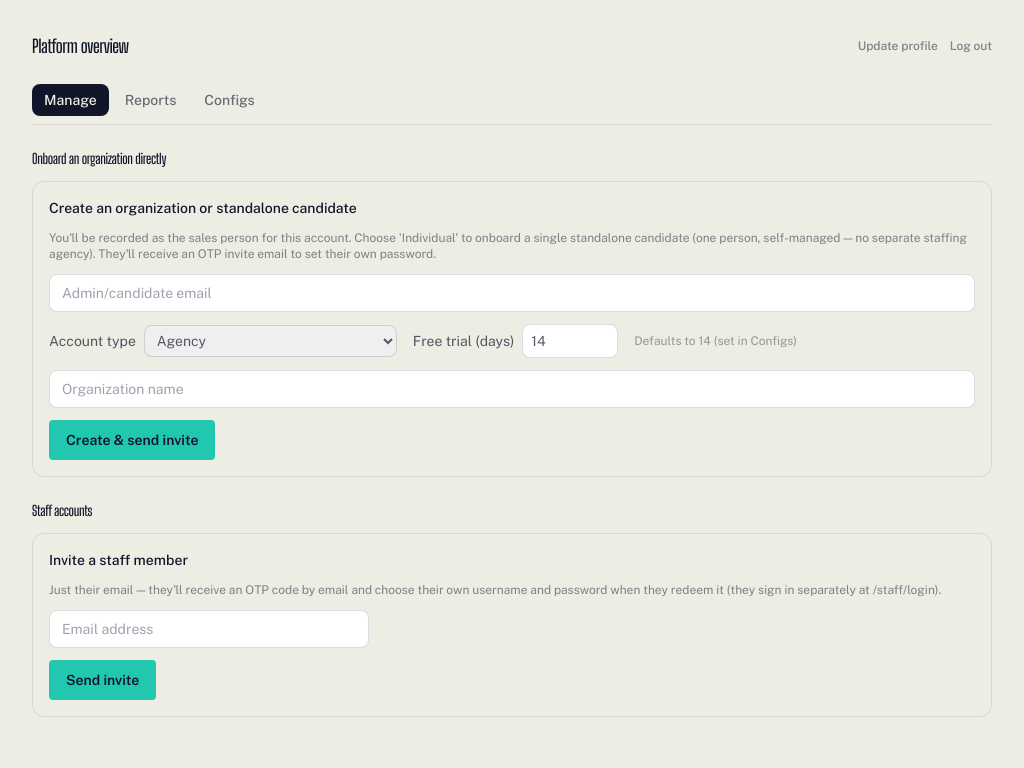
Test: SuperuserDashboard › only fetches reports data when the Reports tab is clicked
The width and height of the screenshot is (1024, 768).
Click the button "Reports". click: [151, 100]
box: 113,84 -> 188,116
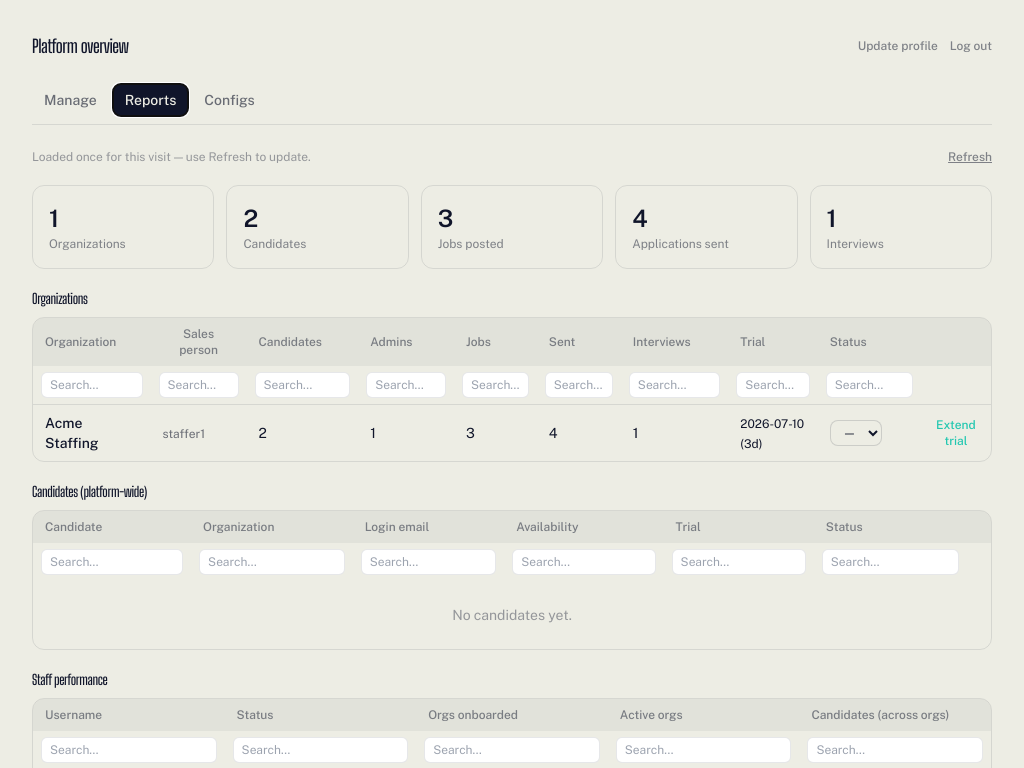
Expected: the text "Acme Staffing" is shown, 45,415 -> 98,451
